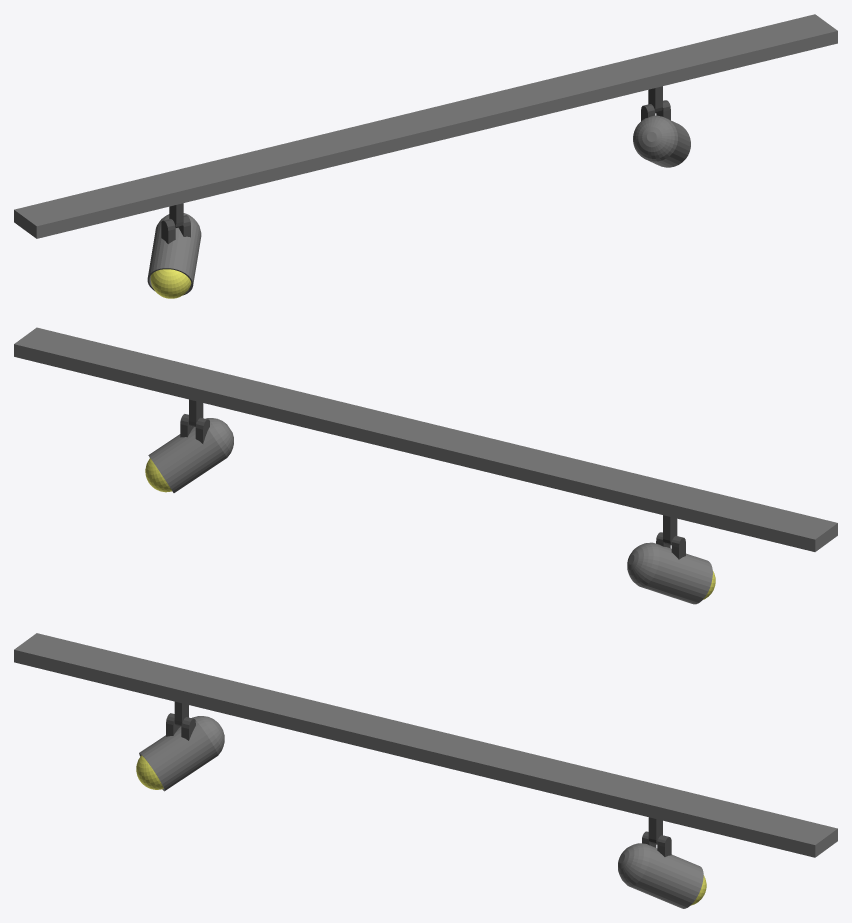
Rendered from CPI441_Fur_Lights_V2.fbx.
3 views of the same model, one above another, from view 1: azimuth 30°, elevation 25°; view 2: azimuth 150°, elevation 25°; view 3: azimuth 330°, elevation 25° (orthographic).
Parts seen in each view (by area): view 1: Cube; view 2: Cube; view 3: Cube.
Boxes of the visible parts, x1,y1,x2,y2 form: Cube: (14, 14, 837, 298); Cube: (14, 327, 837, 604); Cube: (14, 633, 837, 908).
Bounding box in the file's own units: 1572 × 211 × 145.
